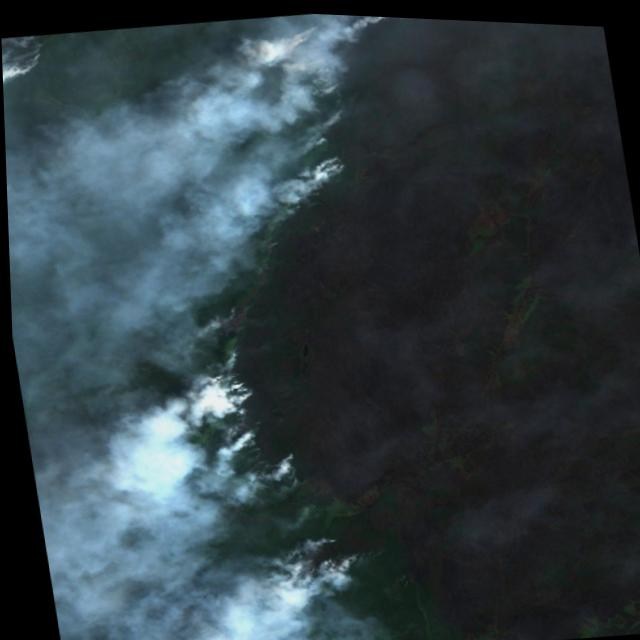fire: (184, 325, 370, 603), (244, 9, 432, 214), (1, 32, 48, 91)
